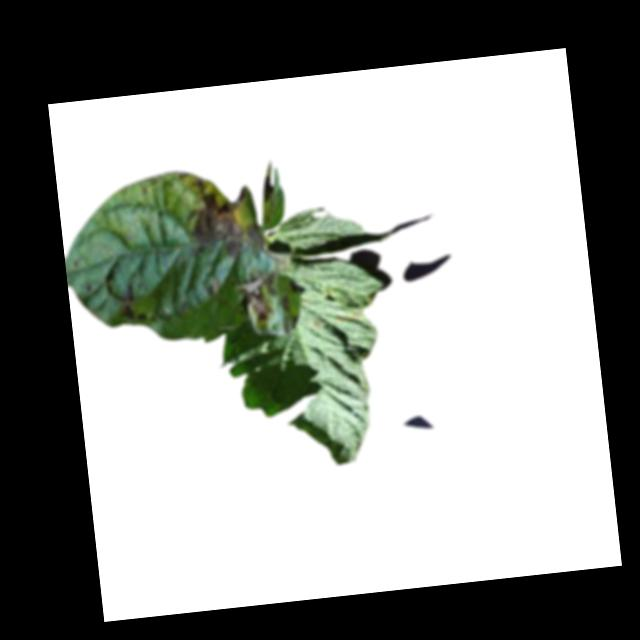Early_blight: (185, 175, 263, 263), (231, 268, 280, 325), (114, 281, 138, 321), (335, 310, 362, 328), (286, 278, 306, 295), (278, 294, 294, 314)
